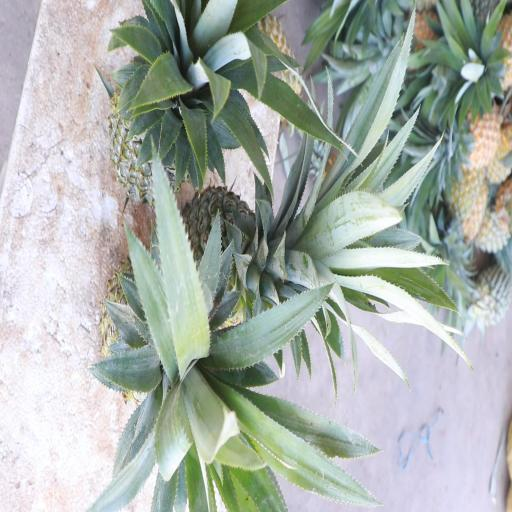------------------------------: (469, 259, 512, 327)
Pineapple - v8 v1: (445, 90, 502, 167)
